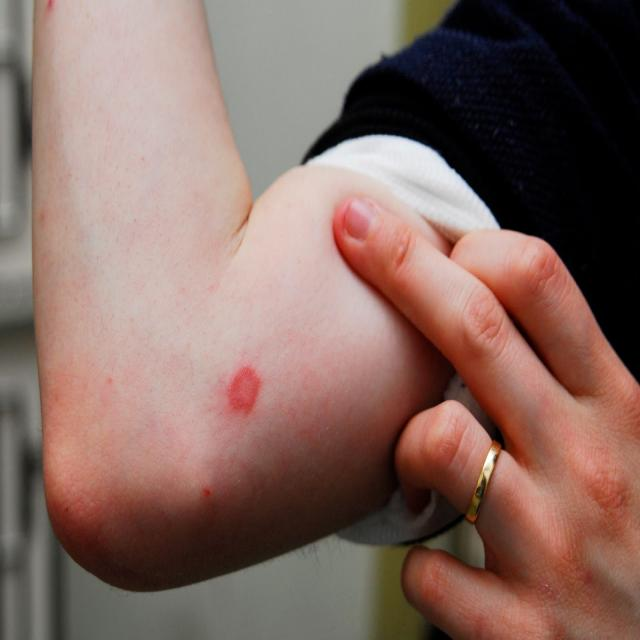tinea: (212, 355, 283, 439)
